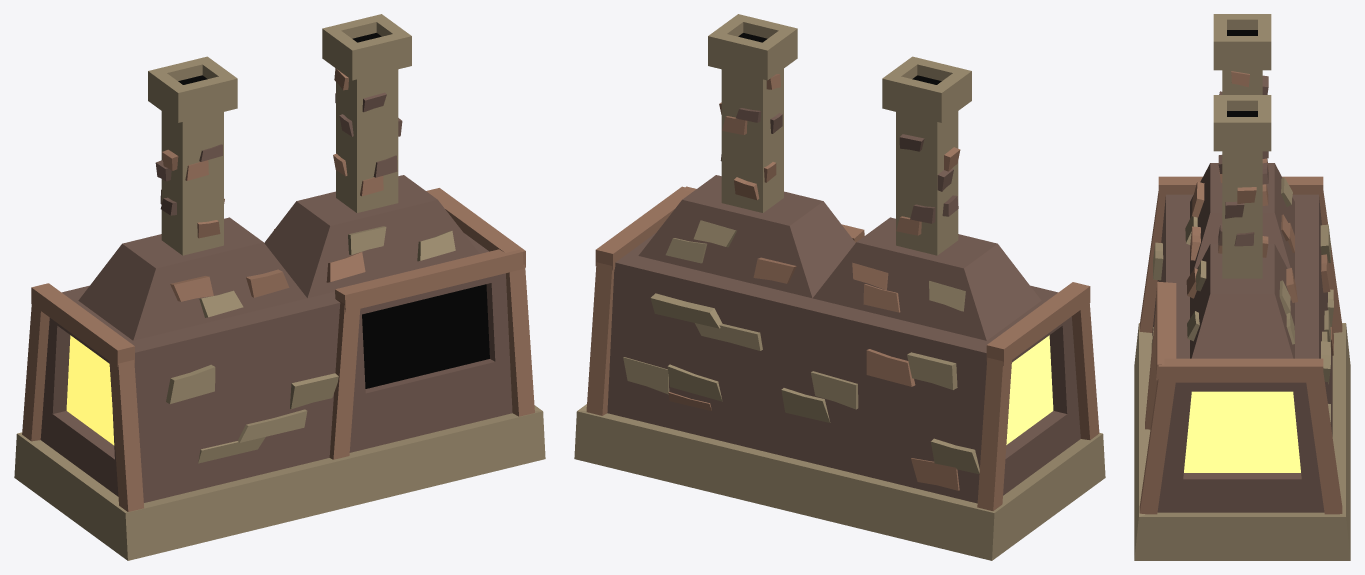
The model's file is Smelter_Seperated.fbx.
3 views of the same model, side by side, from view 1: azimuth 30°, elevation 25°; view 2: azimuth 150°, elevation 25°; view 3: azimuth 270°, elevation 25° (orthographic). The views are drawn at different scales.
Visible parts, largest first — view 1: Cube.078, Cube.145, Cube.137, Cube.139, Cube.140, Cube.143, Cube.138, Cube.142, Cube.086, Cube.080, Cube.082, Cube.081 (+6 smaller); view 2: Cube.078, Cube.138, Cube.139, Cube.141, Cube.137, Cube.142, Cube.092, Cube.090, Cube.095, Cube.094, Cube.100, Cube.098 (+9 smaller); view 3: Cube.078, Cube.142, Cube.141, Cube.140, Cube.145, Cube.139, Cube.137, Cube.138, Cube.143, Cube.104, Cube.086, Cube.092 (+7 smaller).
Part boxes in pixels (left/top/right/bottom): Cube.078: left=14, top=14, right=545, bottom=560; Cube.145: left=335, top=249, right=523, bottom=312; Cube.137: left=109, top=360, right=143, bottom=511; Cube.139: left=31, top=283, right=134, bottom=366; Cube.140: left=506, top=264, right=534, bottom=416; Cube.143: left=329, top=299, right=360, bottom=459; Cube.138: left=22, top=304, right=49, bottom=441; Cube.142: left=426, top=188, right=525, bottom=267; Cube.086: left=166, top=364, right=215, bottom=403; Cube.080: left=290, top=373, right=338, bottom=409; Cube.082: left=238, top=409, right=307, bottom=442; Cube.081: left=198, top=437, right=265, bottom=463; Cube.078: left=574, top=14, right=1105, bottom=560; Cube.138: left=977, top=357, right=1011, bottom=510; Cube.139: left=986, top=282, right=1090, bottom=365; Cube.141: left=586, top=262, right=614, bottom=415; Cube.137: left=1071, top=303, right=1099, bottom=439; Cube.142: left=595, top=186, right=691, bottom=270; Cube.092: left=650, top=293, right=722, bottom=328; Cube.090: left=907, top=352, right=957, bottom=389; Cube.095: left=866, top=349, right=915, bottom=386; Cube.094: left=811, top=371, right=858, bottom=409; Cube.100: left=931, top=438, right=979, bottom=474; Cube.098: left=667, top=364, right=722, bottom=401; Cube.078: left=1134, top=14, right=1350, bottom=560; Cube.142: left=1158, top=358, right=1323, bottom=382; Cube.141: left=1306, top=373, right=1342, bottom=514; Cube.140: left=1139, top=379, right=1175, bottom=514; Cube.145: left=1156, top=281, right=1176, bottom=380; Cube.139: left=1158, top=176, right=1323, bottom=200; Cube.137: left=1139, top=191, right=1165, bottom=332; Cube.138: left=1319, top=191, right=1342, bottom=332; Cube.143: left=1145, top=307, right=1157, bottom=429; Cube.104: left=1192, top=181, right=1204, bottom=217; Cube.086: left=1153, top=242, right=1163, bottom=280; Cube.092: left=1321, top=341, right=1330, bottom=381.
Size of the model in its own units: 306 by 290 by 144.
